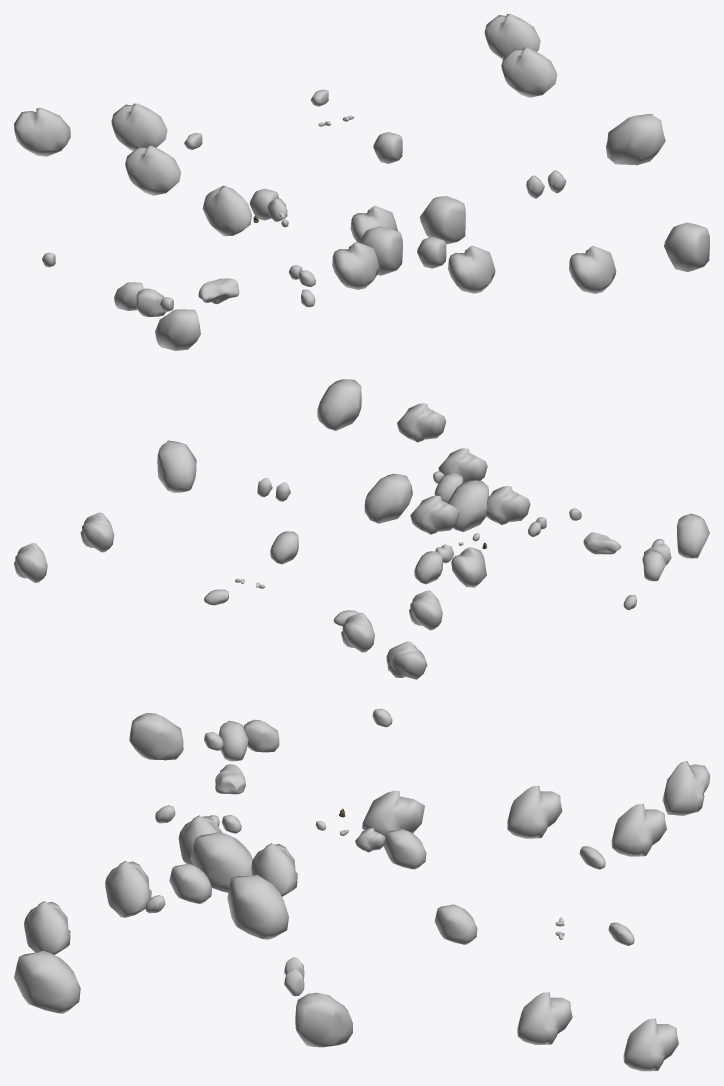
File: Rocks.fbx
The picture shows the model from 3 angles, top to bottom: view 1: azimuth 30°, elevation 25°; view 2: azimuth 150°, elevation 25°; view 3: azimuth 270°, elevation 25°; orthographic projection. The views are drawn at different scales.
Visible parts, largest first — view 1: Rock_01__1_; view 2: Rock_01__1_; view 3: Rock_01__1_.
Boxes of the visible parts, left/top/right/bottom form: Rock_01__1_: left=14, top=14, right=709, bottom=350; Rock_01__1_: left=14, top=379, right=709, bottom=679; Rock_01__1_: left=14, top=708, right=709, bottom=1071.
Bounding box in the file's own units: 44127 × 4026 × 38885.
